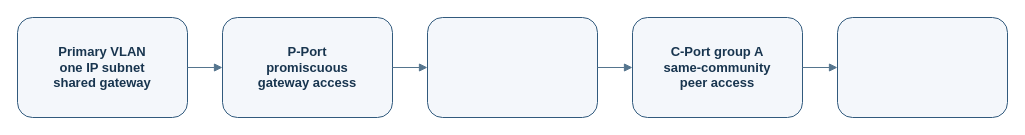
This 1025x135 diagram has some shape labels left out. The centre of each missing label's shape, as x and y in pixels:
C-Port group B separate community no cross-talk: (x=922, y=67)
I-Ports isolated hosts P-port only: (x=512, y=67)
